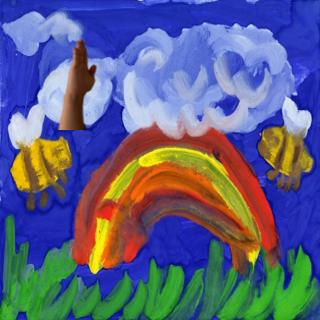RIGHT: (65, 36, 100, 101)
